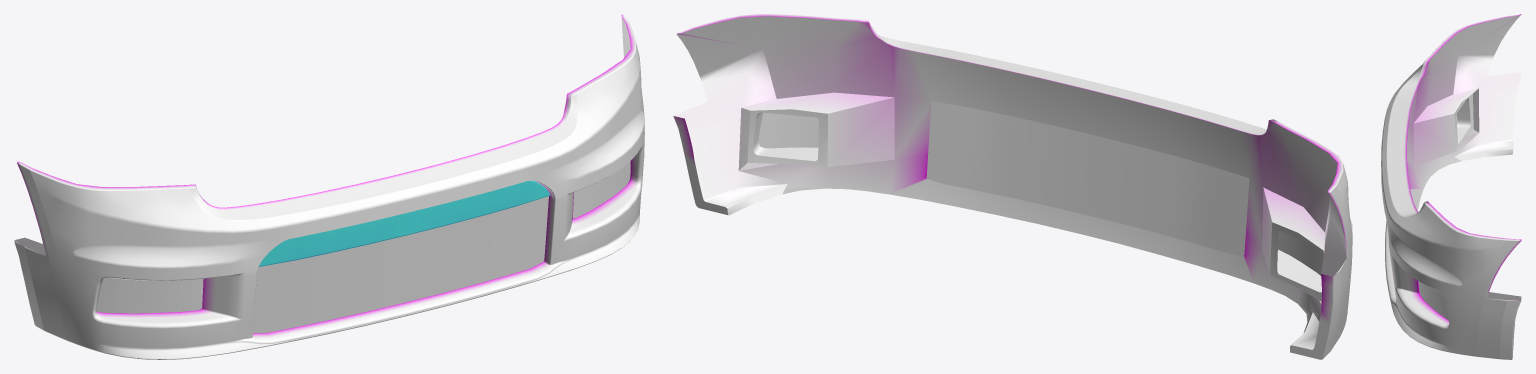
Rendered from Car_Mini_CountrymanJCW_2017_BumperF_SetD_AltD.fbx.
The picture shows the model from 3 angles, left to right: view 1: azimuth 30°, elevation 25°; view 2: azimuth 150°, elevation 25°; view 3: azimuth 270°, elevation 25°; orthographic projection. The views are drawn at different scales.
Visible parts, largest first — view 1: BumperF 6; view 2: BumperF 6; view 3: BumperF 6.
Boxes of the visible parts, box(x1,y1,x2,y2) form: BumperF 6: box(14, 14, 644, 359); BumperF 6: box(673, 14, 1352, 359); BumperF 6: box(1381, 14, 1521, 359).
Size of the model in its own units: 1.76 by 0.4511 by 0.4578.
